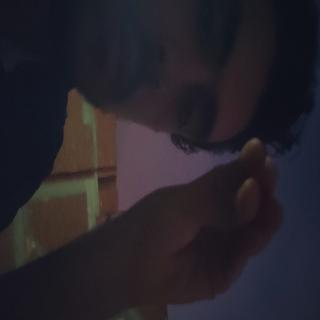HA: (100, 37, 240, 256)
